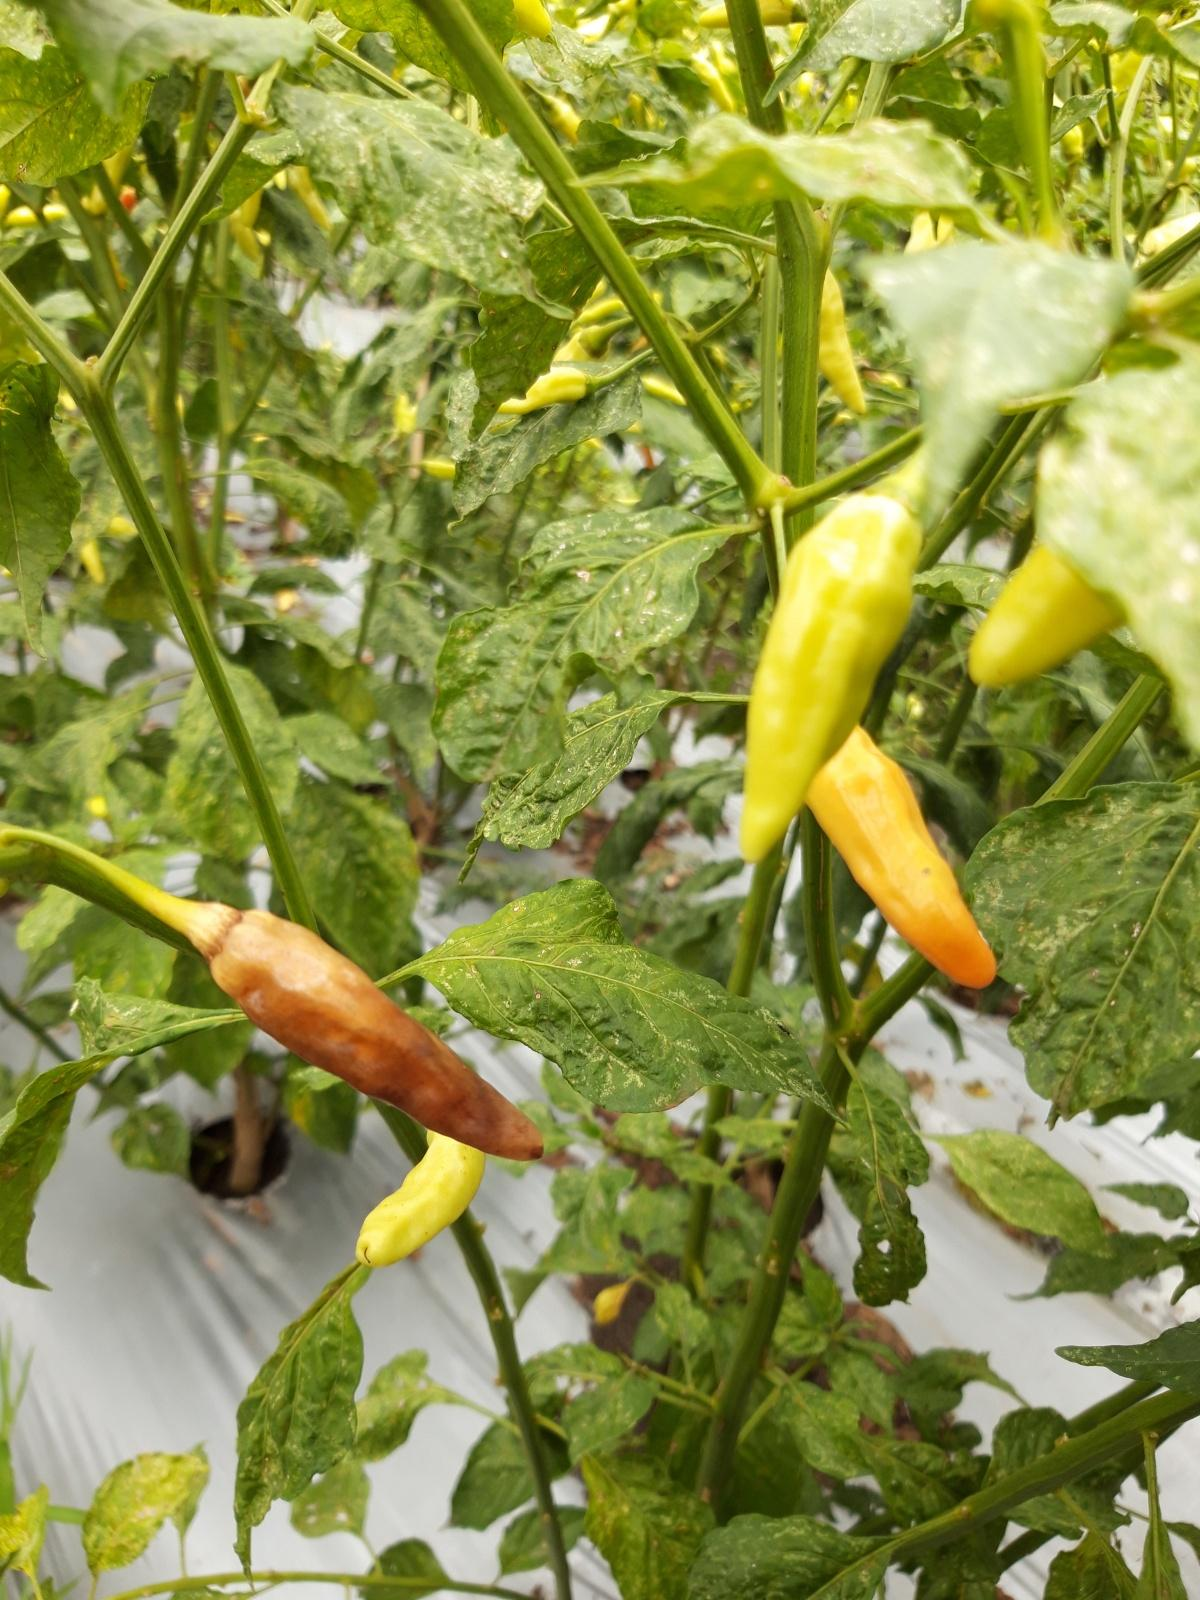cabai_normal: (737, 475, 920, 863), (812, 727, 1000, 993), (347, 1133, 494, 1264)
lalat_buah: (187, 893, 548, 1164)
